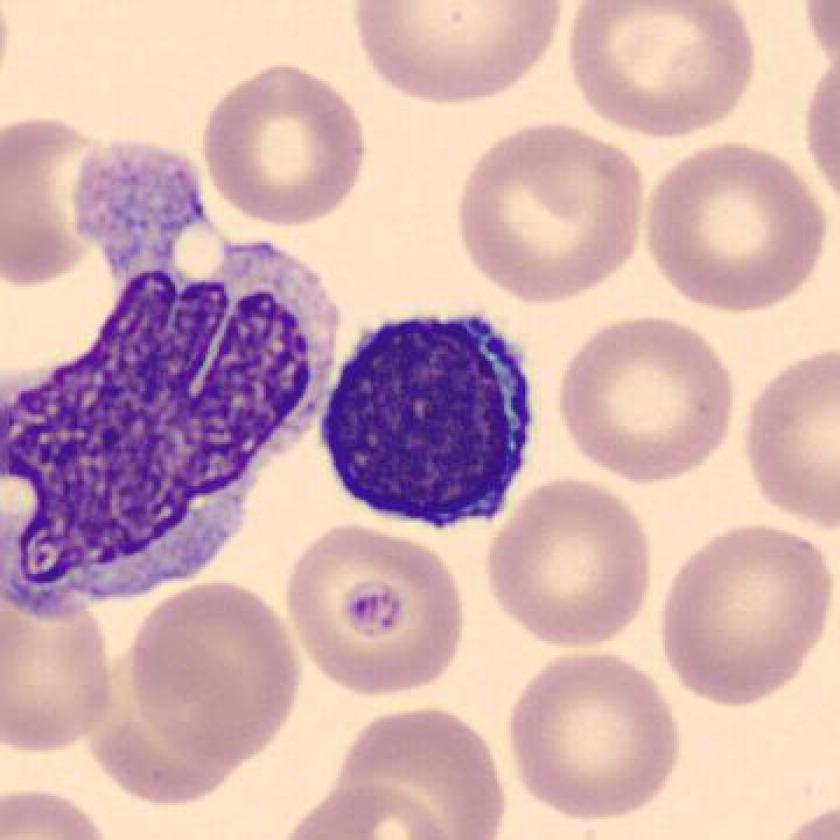lymphocyte: (309, 300, 547, 547)
monocyte: (1, 138, 347, 623)
